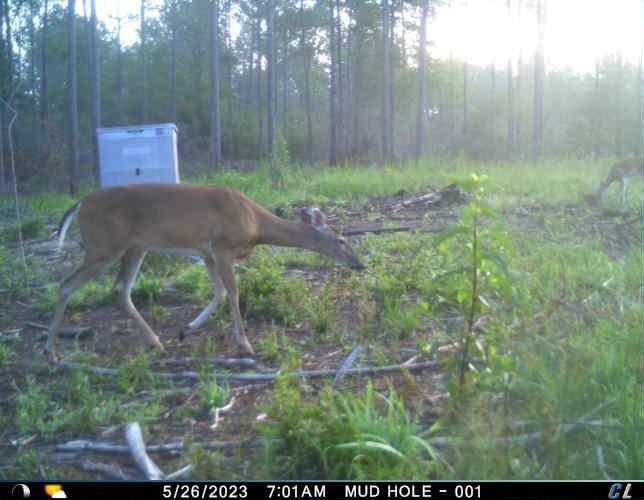Deer: (35, 179, 369, 366), (593, 153, 644, 207)
